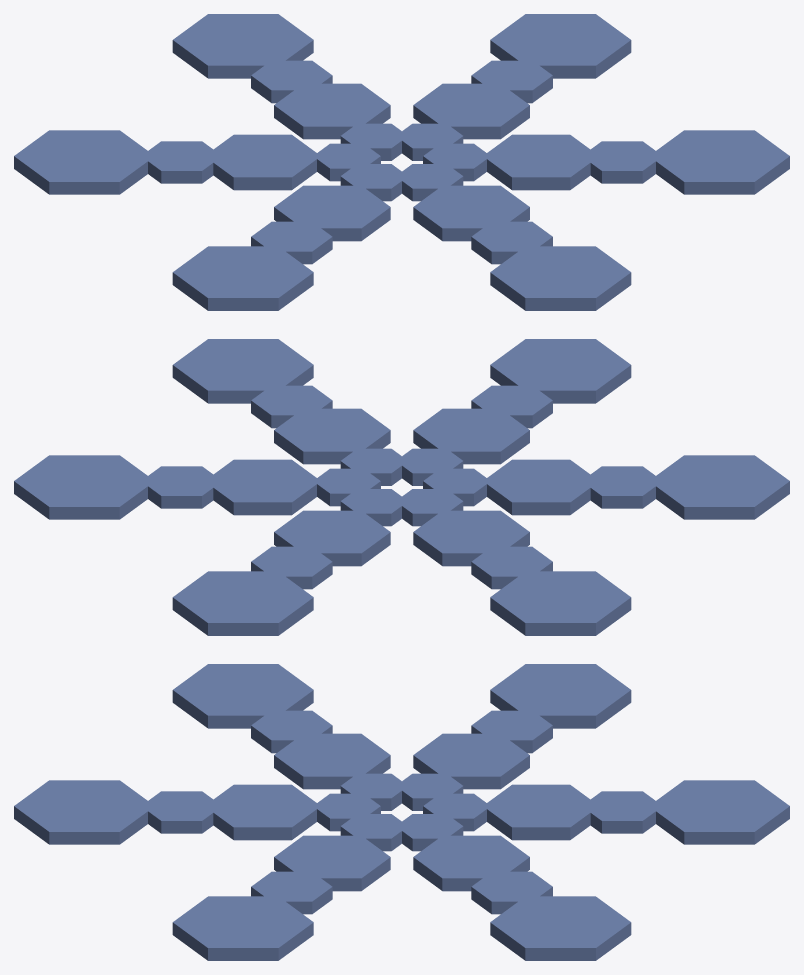
The model's file is Dazzling Migelo-Albar.glb.
3 views of the same model, one above another, from view 1: azimuth 30°, elevation 25°; view 2: azimuth 150°, elevation 25°; view 3: azimuth 270°, elevation 25° (orthographic).
Visible parts, largest first — view 1: Mesh_Mesh_head_geo.001_lambert2SG.001; view 2: Mesh_Mesh_head_geo.001_lambert2SG.001; view 3: Mesh_Mesh_head_geo.001_lambert2SG.001.
Boxes of the visible parts, x1=… form: Mesh_Mesh_head_geo.001_lambert2SG.001: x1=14, y1=14, x2=789, y2=310; Mesh_Mesh_head_geo.001_lambert2SG.001: x1=14, y1=339, x2=789, y2=635; Mesh_Mesh_head_geo.001_lambert2SG.001: x1=14, y1=664, x2=789, y2=960.
Bounding box in the file's own units: 95.26 × 2 × 110.
